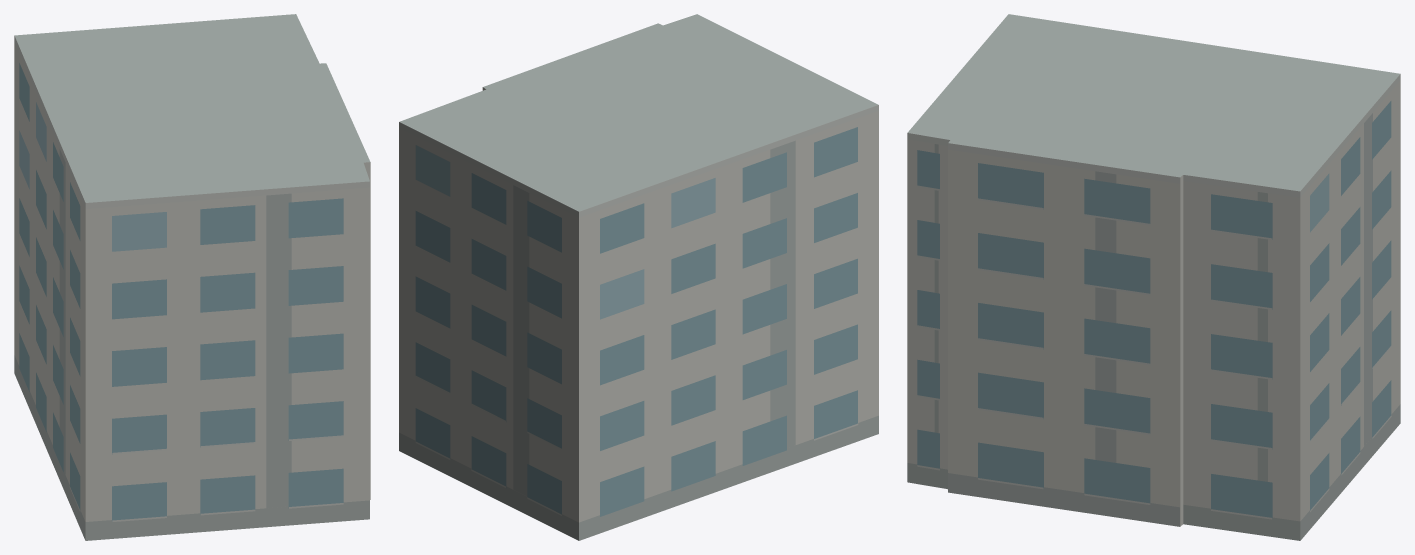
Rendered from survey-upis-32885784.glb.
3 renders of one model, left to right at view 1: azimuth 30°, elevation 25°; view 2: azimuth 150°, elevation 25°; view 3: azimuth 270°, elevation 25°, orthographic. The views are drawn at different scales.
Parts seen in each view (by area): view 1: survey-upis-32885784.tmp; view 2: survey-upis-32885784.tmp; view 3: survey-upis-32885784.tmp.
Part boxes in pixels (bbox=[...]): survey-upis-32885784.tmp: bbox=[14, 14, 370, 540]; survey-upis-32885784.tmp: bbox=[399, 14, 878, 540]; survey-upis-32885784.tmp: bbox=[907, 14, 1400, 540].
Bounding box in the file's own units: 14.44 × 13.25 × 16.96.
